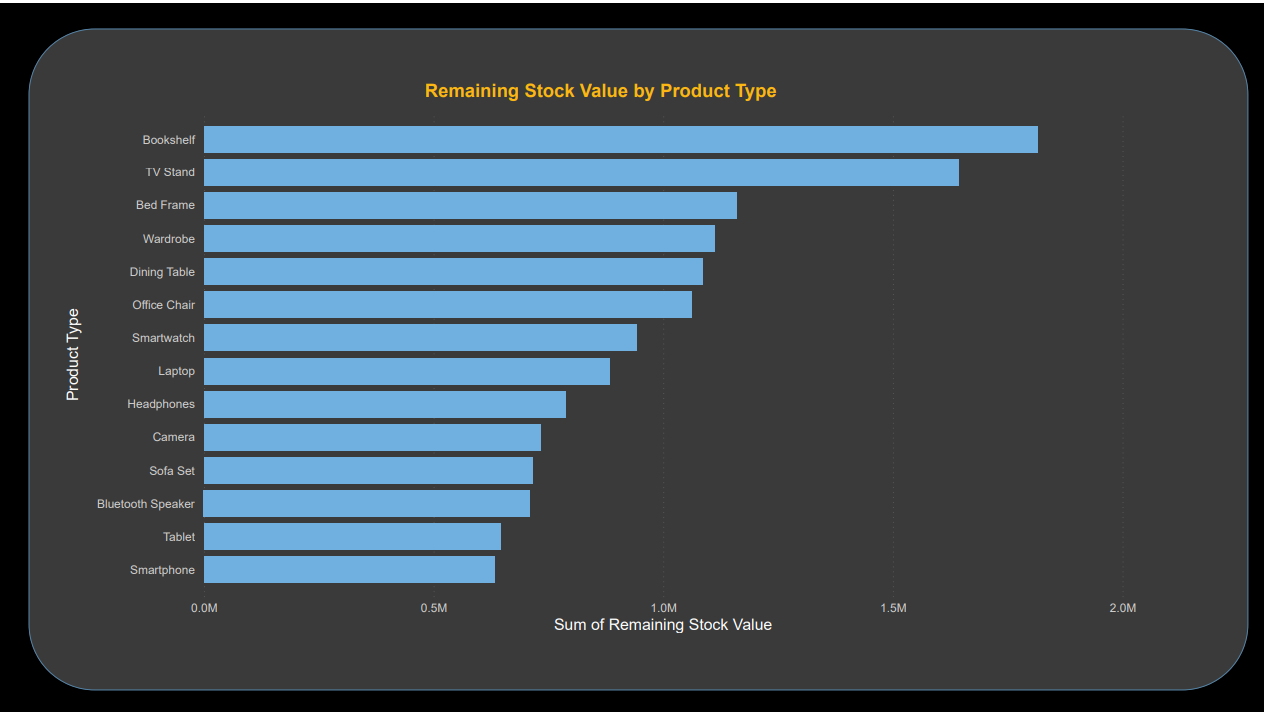

This screenshot's page, from the dashboard's own definition file:
{"tool":"powerbi","page":{"name":"Page 2","canvas":[1280,720],"ordinal":1},"visuals":[{"type":"shape","box":[28.3,24.6,1230.2,669],"z":0},{"type":"clusteredBarChart","title":"Remaining Stock Value by Product Type","fields":{"Category":["Home Appliance Inventory.Product Type"],"Y":["Sum(Home Appliance Inventory.Remaining Stock Value)"]},"box":[60.5,77.5,1090.4,563.2],"z":1000}]}

Visuals, with their boxes in screenshot pixels (x1, y1, x2, y2), scaled from the page's 1280x720 canvas onto the 1264x712 screenshot:
shape: <region>28, 24, 1243, 686</region>
"Remaining Stock Value by Product Type" clusteredBarChart: <region>60, 77, 1137, 634</region>
